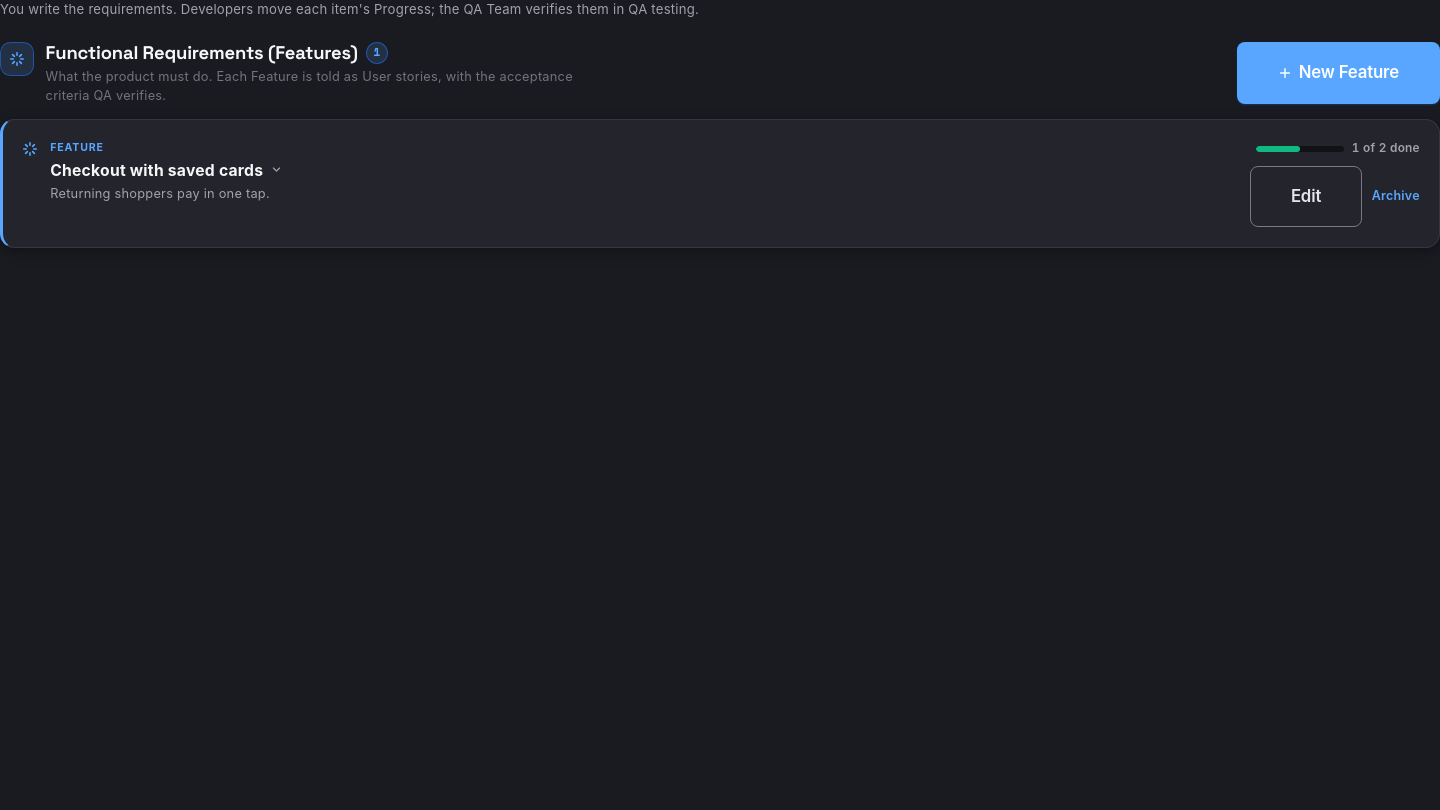
Scenario: ProjectRequirementsPanel › New Feature: a side list of Features beside an editor › is one wide, labelled dialog: a vertical tablist of Features beside the open one's editor
Click the button "New Feature" at point(1339, 73), box top-left (1237, 42), bottom-right (1439, 104)
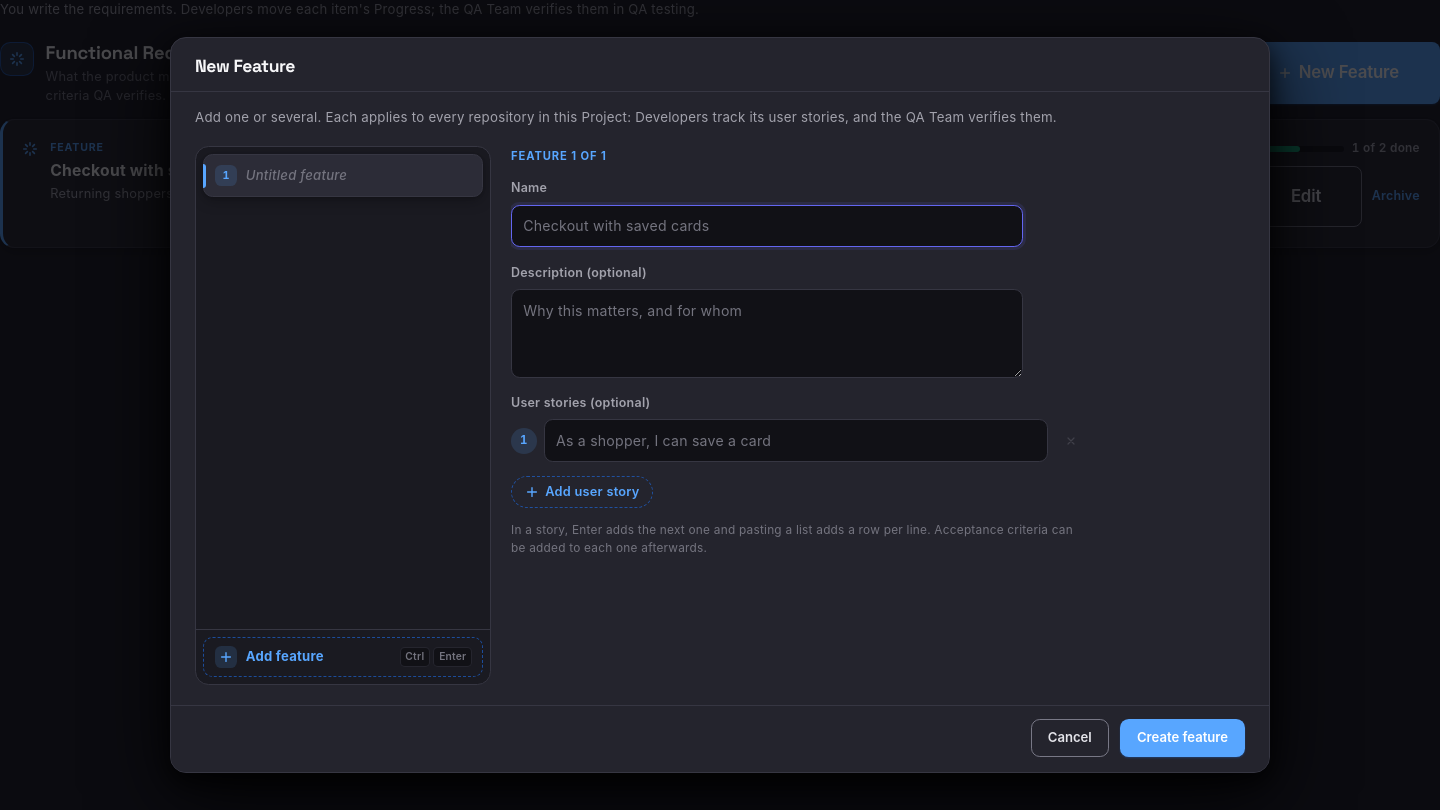
Now the element with class "rq-rail" is shown, box top-left (195, 146), bottom-right (491, 685)
Now the submit button reads "Create feature", box top-left (1120, 719), bottom-right (1245, 757)
Now the text with class "rq-rail__name" reads "Untitled feature", box top-left (246, 167), bottom-right (347, 183)
